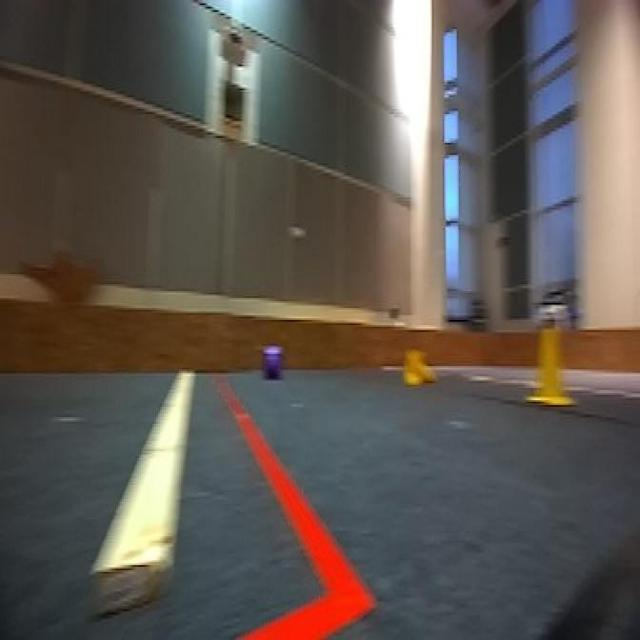frc_cone: (526, 320, 574, 410), (399, 344, 440, 390)
frc_cube: (262, 346, 282, 381)
